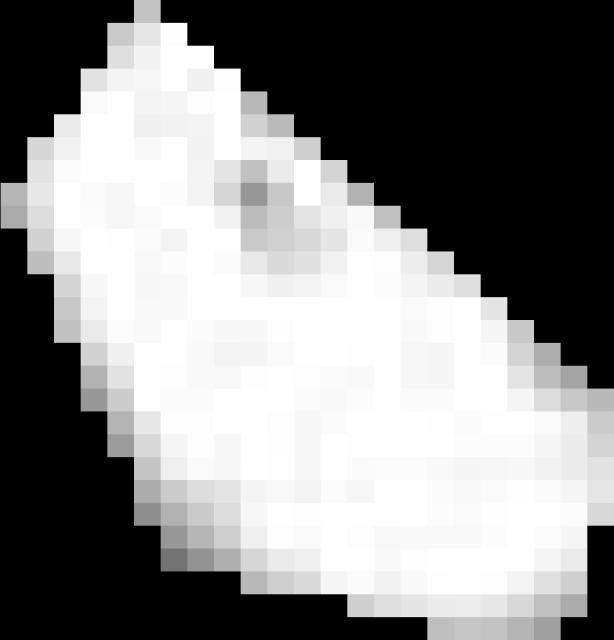tumor_good_chance: (1, 0, 614, 640)
